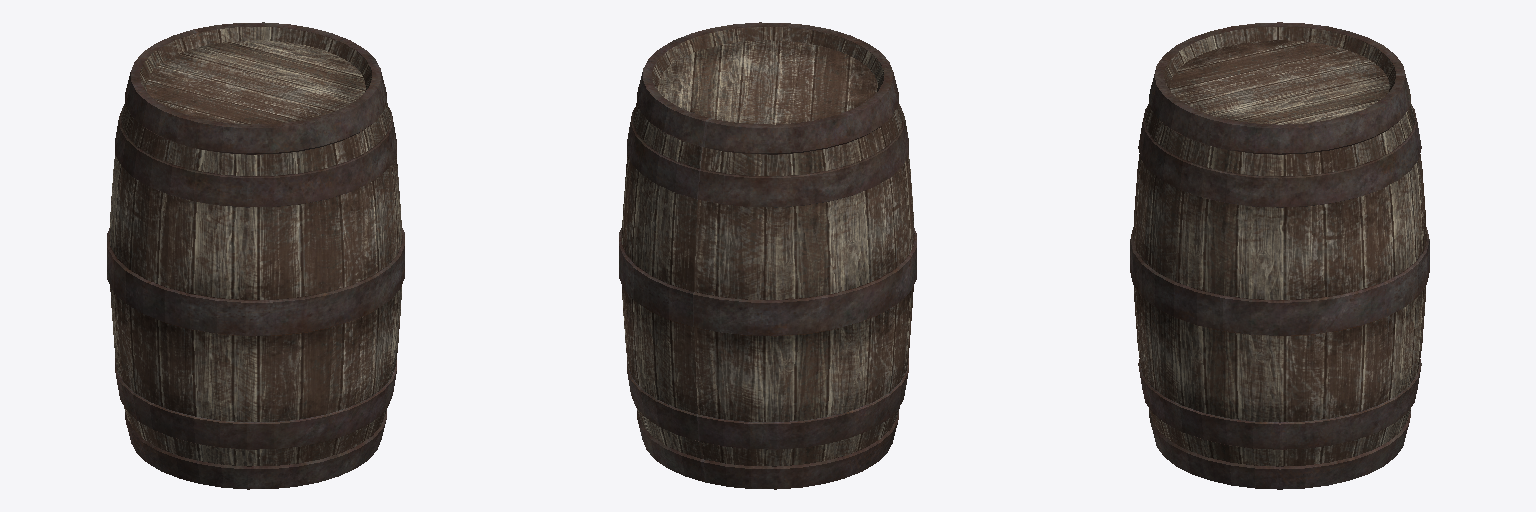
The picture shows the model from 3 angles: view 1: azimuth 30°, elevation 25°; view 2: azimuth 150°, elevation 25°; view 3: azimuth 270°, elevation 25°; orthographic projection.
Visible parts, largest first — view 1: Cylinder; view 2: Cylinder; view 3: Cylinder.
Part boxes in pixels (left/top/right/bottom): Cylinder: left=107, top=22, right=404, bottom=489; Cylinder: left=619, top=22, right=916, bottom=489; Cylinder: left=1130, top=22, right=1429, bottom=489.
Size of the model in its own units: 2.42 by 3.22 by 2.42.
1 materials, 1 textured.